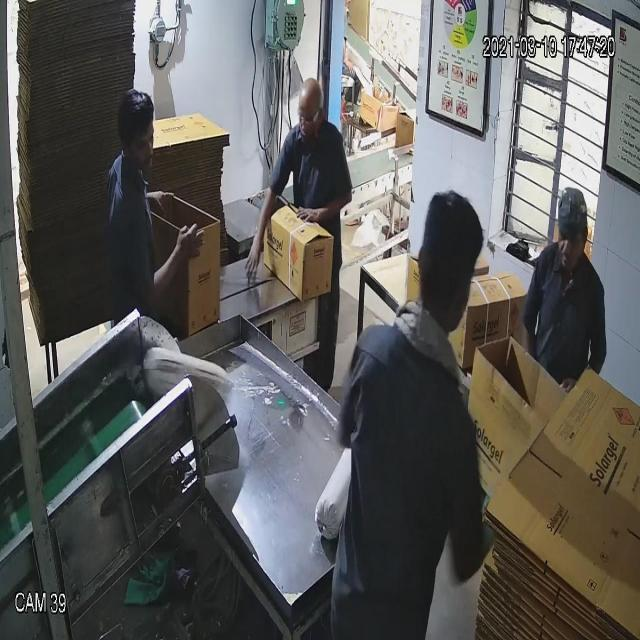No_Gloves: (43, 49, 328, 266)
